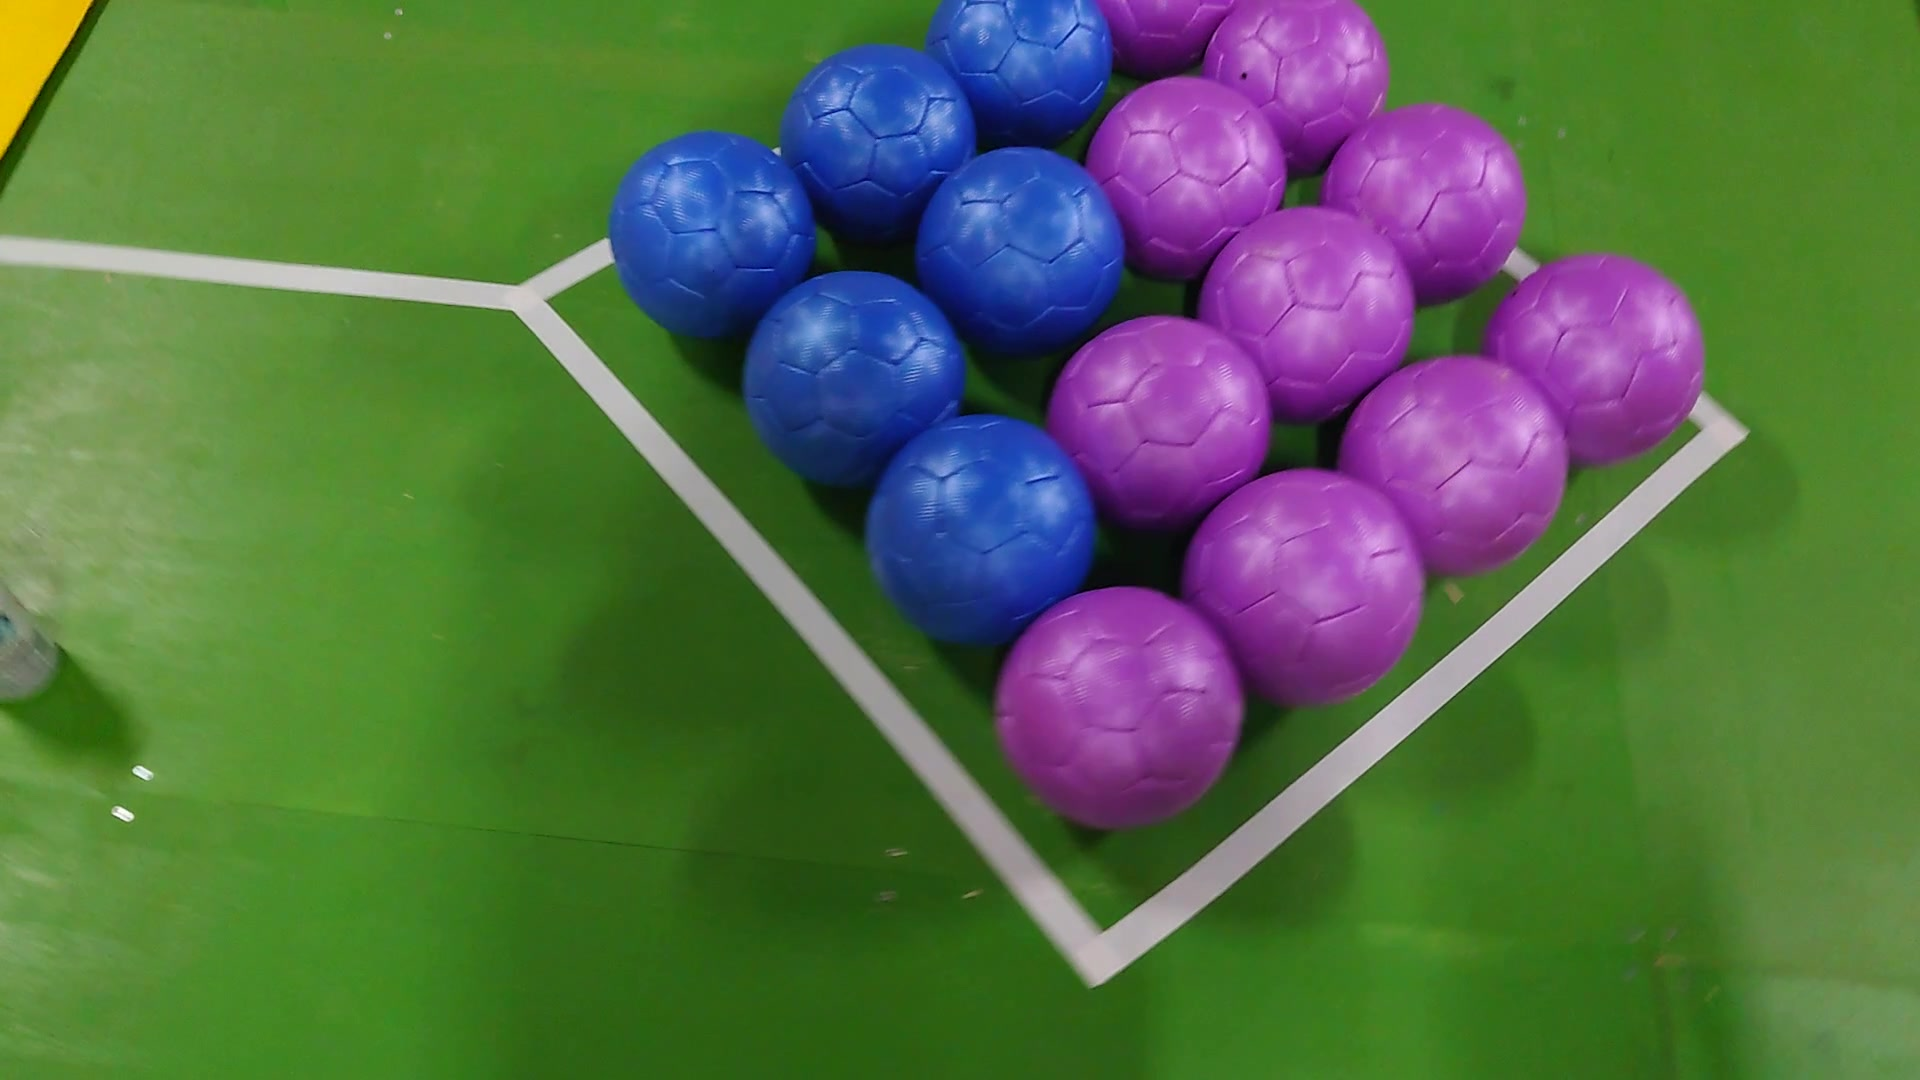blue: (865, 411, 1104, 637), (741, 268, 967, 487), (604, 124, 816, 336), (911, 144, 1126, 352), (777, 46, 980, 228), (927, 0, 1120, 131)
purple: (1175, 464, 1424, 712), (993, 584, 1241, 832), (1332, 356, 1568, 578), (1476, 252, 1705, 467), (1048, 310, 1274, 526), (1195, 206, 1411, 418), (1319, 102, 1528, 301), (1084, 71, 1290, 272), (1201, 0, 1394, 170), (1091, 0, 1234, 59)
